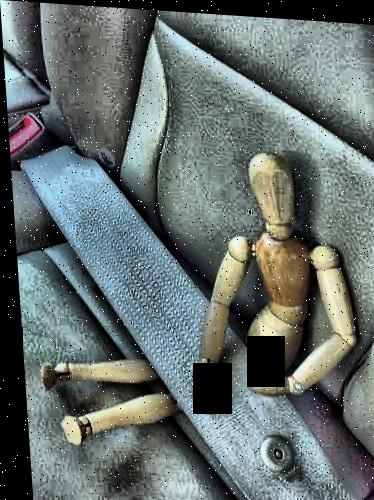seatbelt: (14, 134, 370, 500)
